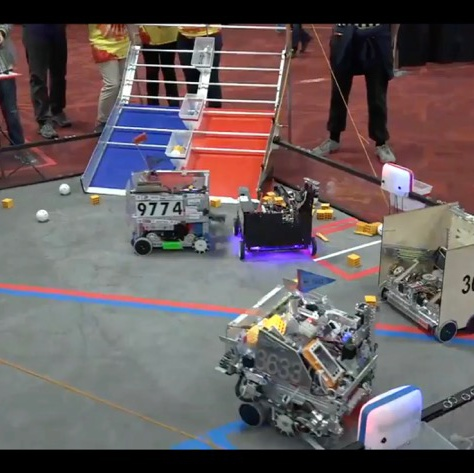robot: (210, 265, 382, 444), (376, 197, 474, 346), (122, 166, 217, 254), (227, 178, 322, 263)
